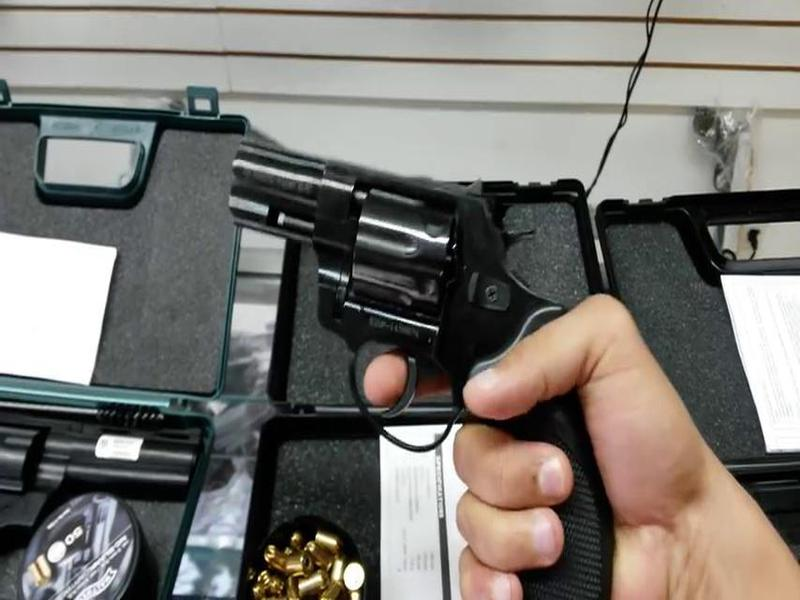Revolver: (219, 114, 606, 600)
